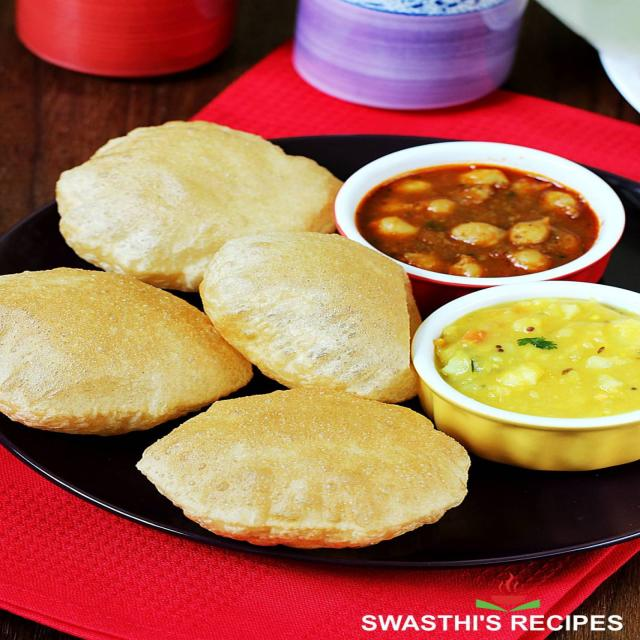poori: (124, 382, 486, 564), (48, 110, 350, 277), (192, 224, 440, 406), (0, 254, 244, 437)
